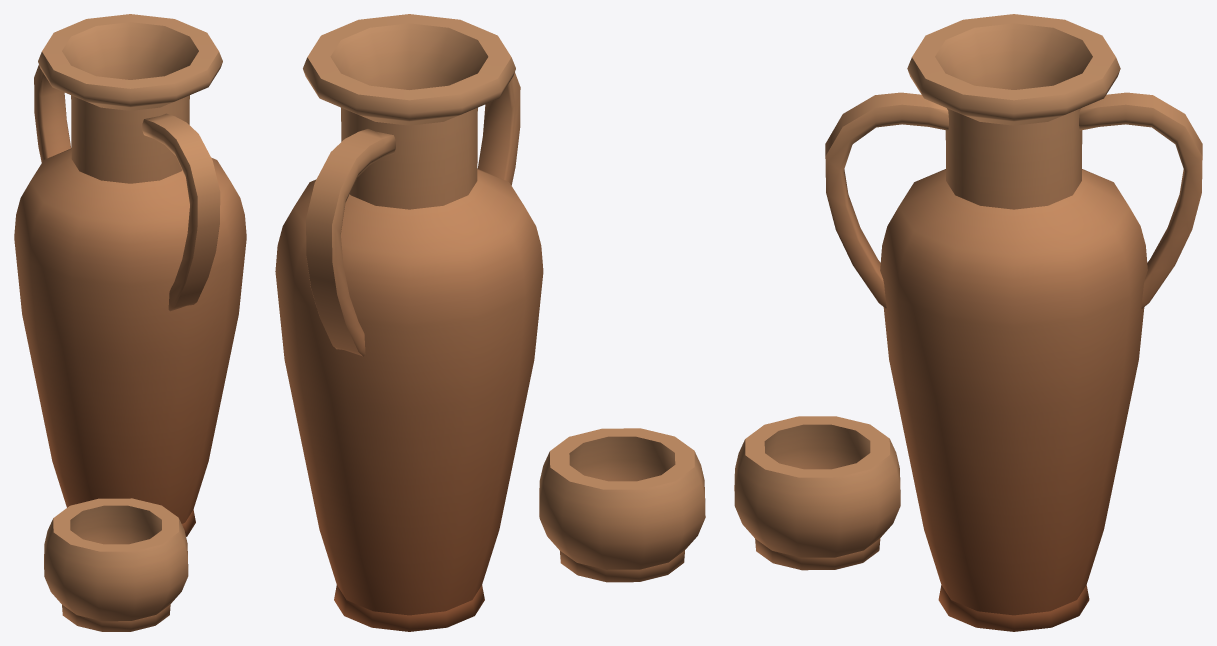
Rendered from dungeonkit_decor_pots01.fbx.
The picture shows the model from 3 angles, left to right: view 1: azimuth 30°, elevation 25°; view 2: azimuth 150°, elevation 25°; view 3: azimuth 270°, elevation 25°; orthographic projection. The views are drawn at different scales.
Visible parts, largest first — view 1: Cylinder.007; view 2: Cylinder.007; view 3: Cylinder.007.
Part boxes in pixels (x1,y1,x2,y2): Cylinder.007: (14,14,246,631); Cylinder.007: (275,14,705,631); Cylinder.007: (734,14,1202,631).
Bounding box in the file's own units: 99.42 × 170 × 133.
